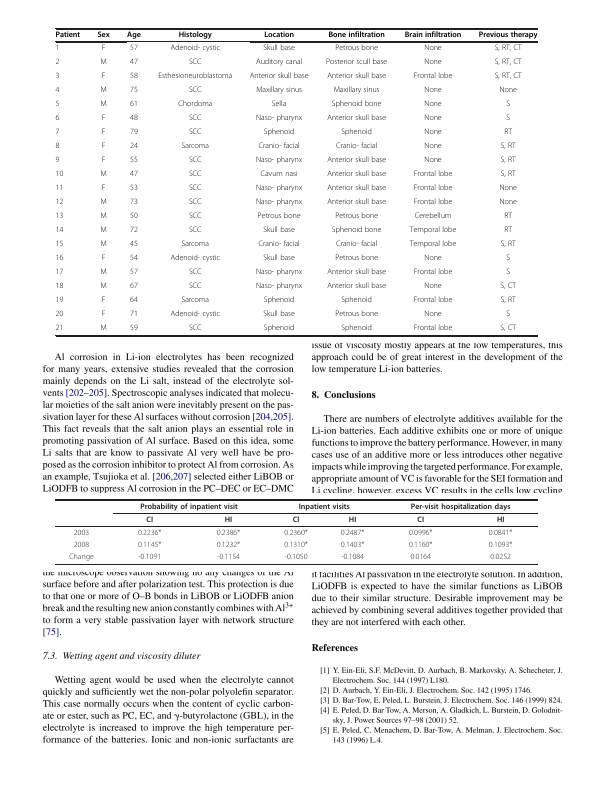borderless: (54, 27, 537, 335), (55, 498, 538, 564)
cell: (410, 502, 511, 511), (139, 502, 239, 511), (157, 72, 233, 82), (325, 58, 388, 68), (326, 72, 387, 82), (326, 114, 387, 124), (326, 156, 387, 166), (326, 170, 387, 180), (326, 184, 387, 194), (326, 198, 387, 208), (326, 268, 387, 278), (326, 282, 387, 292), (249, 72, 309, 82), (478, 31, 538, 40), (327, 31, 386, 40), (404, 31, 462, 40), (169, 44, 221, 54), (169, 254, 221, 264), (169, 310, 221, 320), (331, 100, 382, 110), (331, 226, 382, 236), (255, 58, 303, 68), (255, 86, 303, 96), (255, 114, 303, 124), (255, 156, 303, 166), (255, 184, 303, 194), (255, 198, 303, 208), (409, 226, 457, 236), (409, 240, 457, 250), (255, 268, 303, 278), (255, 282, 303, 292), (298, 502, 351, 511), (333, 86, 380, 96), (334, 44, 379, 54), (334, 212, 379, 222), (334, 254, 379, 264), (334, 310, 379, 320), (257, 142, 301, 152), (257, 212, 301, 222), (257, 240, 301, 250), (335, 142, 378, 152), (335, 240, 378, 250), (413, 72, 453, 82), (259, 170, 299, 180), (413, 170, 453, 180), (413, 184, 453, 194), (413, 198, 453, 208), (413, 268, 453, 278), (413, 296, 453, 306), (413, 324, 453, 334), (414, 212, 452, 222), (177, 100, 213, 110), (262, 44, 296, 54), (262, 226, 296, 236), (262, 254, 296, 264), (262, 310, 296, 320), (340, 128, 373, 138), (340, 296, 373, 306), (340, 324, 373, 334), (263, 128, 295, 138), (263, 296, 295, 306), (263, 324, 295, 334), (178, 31, 213, 40), (180, 142, 210, 152), (180, 240, 210, 250), (180, 296, 210, 306), (494, 44, 523, 54), (494, 58, 523, 68), (494, 72, 523, 82), (263, 31, 295, 40), (68, 552, 95, 562), (283, 528, 309, 538), (283, 540, 309, 550), (137, 528, 162, 538), (216, 528, 241, 538), (340, 528, 365, 538), (408, 528, 433, 538), (488, 528, 513, 538), (137, 540, 162, 550), (216, 540, 241, 550), (340, 540, 365, 550), (408, 540, 433, 550), (488, 540, 513, 550), (137, 552, 162, 562), (216, 552, 241, 562), (340, 552, 365, 562), (284, 552, 308, 562), (55, 31, 81, 40), (409, 552, 432, 562), (489, 552, 512, 562), (423, 44, 443, 54), (423, 58, 443, 68), (423, 86, 443, 96), (498, 86, 518, 96), (423, 100, 443, 110), (423, 114, 443, 124), (423, 128, 443, 138), (423, 142, 443, 152), (423, 156, 443, 166), (498, 184, 518, 194), (498, 198, 518, 208), (423, 254, 443, 264), (423, 282, 443, 292), (423, 310, 443, 320), (499, 282, 517, 292), (499, 324, 517, 334), (73, 528, 90, 538), (73, 540, 90, 550), (500, 142, 517, 152), (500, 156, 517, 166), (500, 170, 517, 180), (500, 240, 517, 250), (500, 296, 517, 306), (271, 100, 287, 110), (126, 31, 142, 40), (188, 58, 202, 68), (188, 86, 202, 96), (188, 114, 202, 124), (188, 128, 202, 138), (188, 156, 202, 166), (188, 170, 202, 180), (188, 184, 202, 194), (188, 198, 202, 208), (188, 212, 202, 222), (188, 226, 202, 236), (188, 268, 202, 278), (188, 282, 202, 292), (188, 324, 202, 334), (96, 31, 111, 40), (129, 44, 139, 54), (129, 58, 139, 68), (129, 72, 139, 82), (129, 86, 139, 96), (129, 100, 139, 110), (129, 114, 139, 124), (129, 128, 139, 138), (503, 128, 513, 138), (129, 142, 139, 152), (129, 156, 139, 166), (129, 170, 139, 180), (129, 184, 139, 194), (129, 198, 139, 208), (129, 212, 139, 222), (503, 212, 513, 222), (129, 226, 139, 236), (503, 226, 513, 236), (129, 240, 139, 250), (129, 254, 139, 264), (129, 268, 139, 278), (129, 282, 139, 292), (129, 296, 139, 306), (129, 310, 139, 320), (129, 324, 139, 334), (145, 515, 154, 525), (224, 515, 233, 525), (348, 515, 357, 525), (416, 515, 425, 525), (496, 515, 505, 525), (99, 58, 108, 68), (99, 86, 108, 96), (99, 100, 108, 110), (55, 170, 64, 180), (99, 170, 108, 180), (55, 184, 64, 194), (55, 198, 64, 208), (99, 198, 108, 208), (55, 212, 64, 222), (99, 212, 108, 222), (55, 226, 64, 236), (99, 226, 108, 236), (55, 240, 64, 250), (99, 240, 108, 250), (55, 254, 64, 264), (55, 268, 64, 278), (99, 268, 108, 278), (55, 282, 64, 292), (99, 282, 108, 292), (55, 296, 64, 306), (55, 310, 64, 320), (55, 324, 64, 334), (99, 324, 108, 334), (292, 515, 300, 525), (505, 100, 511, 110), (505, 114, 511, 124), (505, 254, 511, 264), (505, 268, 511, 278), (505, 310, 511, 320), (55, 44, 60, 54), (101, 44, 106, 54), (55, 58, 60, 68), (55, 72, 60, 82), (101, 72, 106, 82), (55, 86, 60, 96), (55, 100, 60, 110), (55, 114, 60, 124), (101, 114, 106, 124), (55, 128, 60, 138), (101, 128, 106, 138), (55, 142, 60, 152), (101, 142, 106, 152), (55, 156, 60, 166), (101, 156, 106, 166), (101, 184, 106, 194), (101, 254, 106, 264), (101, 296, 106, 306), (101, 310, 106, 320)
